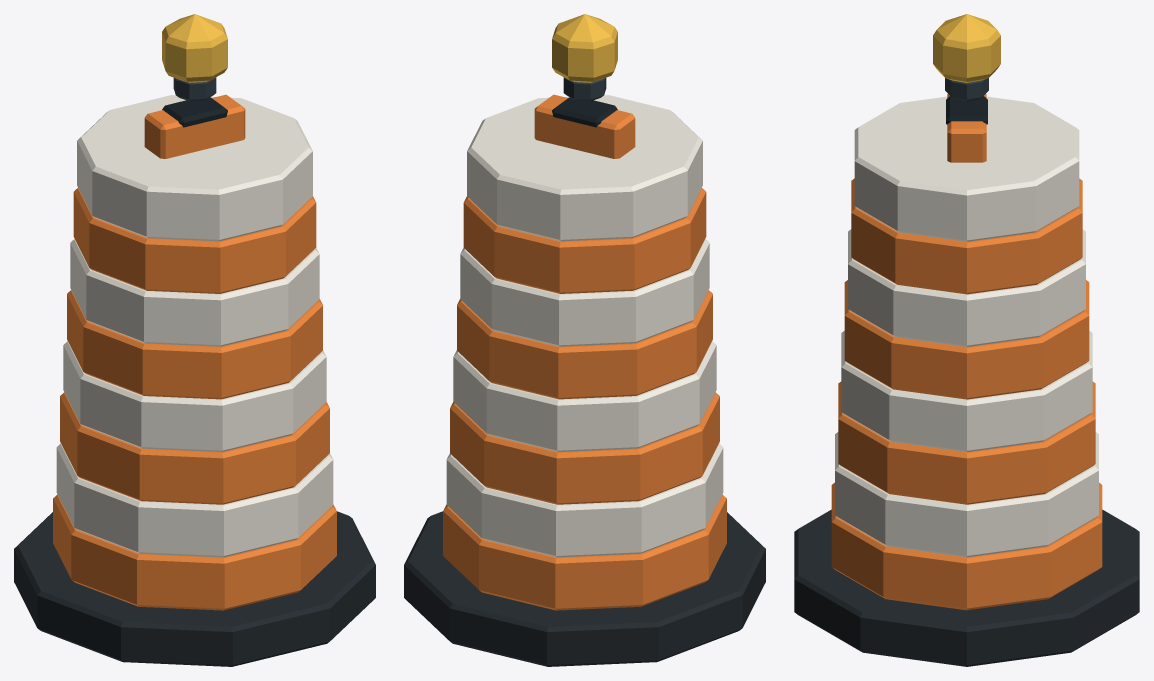
Rendered from b02_construction_traffic_barrel.glb.
3 renders of one model, left to right at view 1: azimuth 30°, elevation 25°; view 2: azimuth 150°, elevation 25°; view 3: azimuth 270°, elevation 25°, orthographic.
Parts seen in each view (by area): view 1: b02_construction_traffic_barrel; view 2: b02_construction_traffic_barrel; view 3: b02_construction_traffic_barrel.
Boxes of the visible parts, box(x1,y1,x2,y2) form: b02_construction_traffic_barrel: box(14, 14, 375, 666); b02_construction_traffic_barrel: box(404, 14, 765, 666); b02_construction_traffic_barrel: box(794, 14, 1139, 666).
Bounding box in the file's own units: 0.74 × 1.3 × 0.7038.
